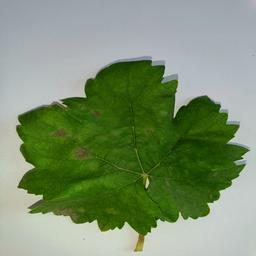Powdery-Mildew: (51, 173, 115, 210), (90, 104, 107, 121), (154, 105, 170, 122), (52, 124, 68, 141), (75, 143, 91, 160), (107, 204, 123, 220)
